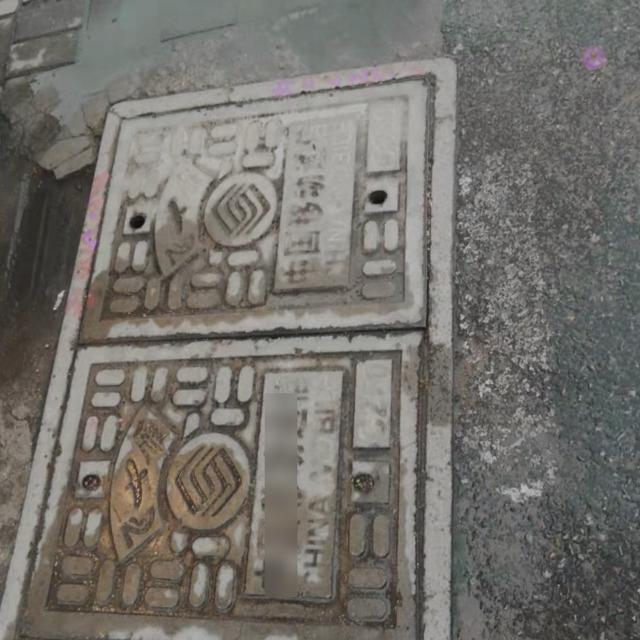good: (0, 56, 458, 640)
